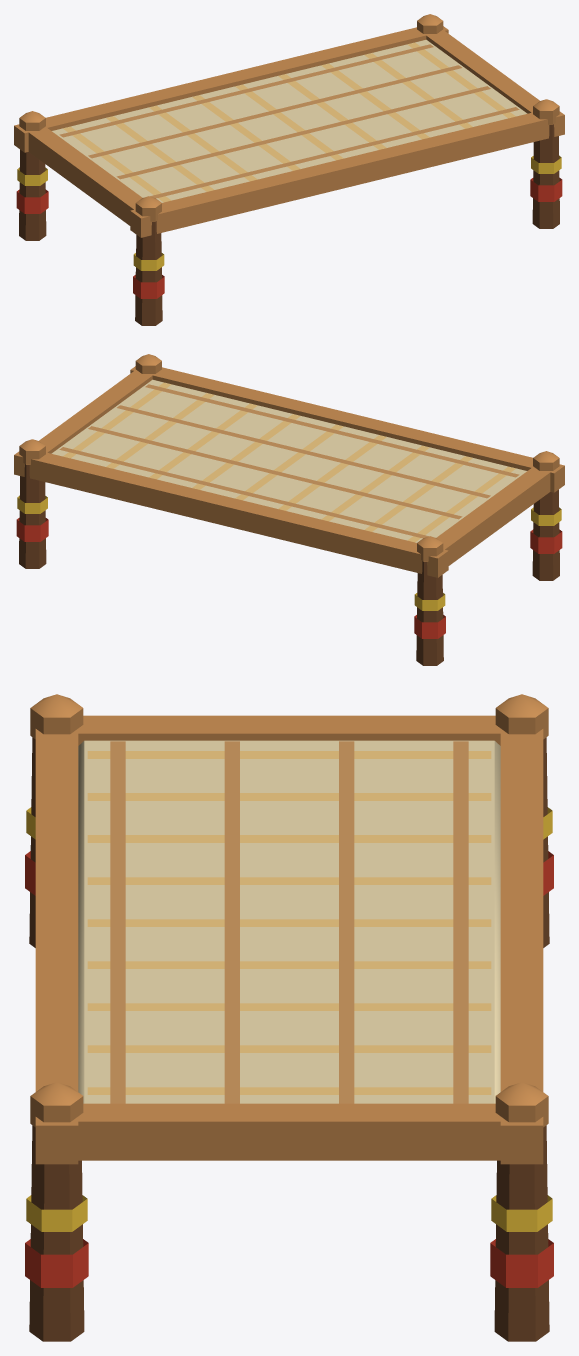
The model's file is charpai.glb.
3 views of the same model, one above another, from view 1: azimuth 30°, elevation 25°; view 2: azimuth 150°, elevation 25°; view 3: azimuth 270°, elevation 25° (orthographic). The views are drawn at different scales.
Parts seen in each view (by area): view 1: charpai; view 2: charpai; view 3: charpai.
Boxes of the visible parts, x1,y1,x2,y2 form: charpai: (14,14,564,325); charpai: (14,354,564,665); charpai: (25,694,553,1341).
Bounding box in the file's own units: 1.6 × 0.45 × 0.864.
Materials: 1 (1 with a texture image).
